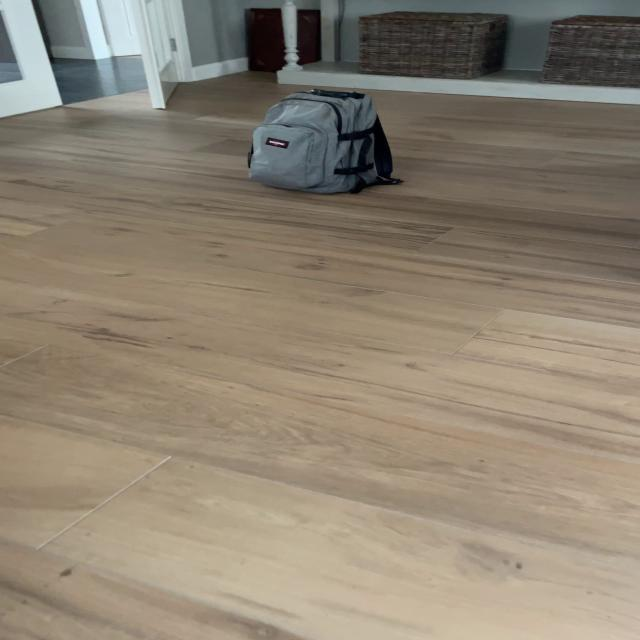backpack: (239, 84, 399, 198)
